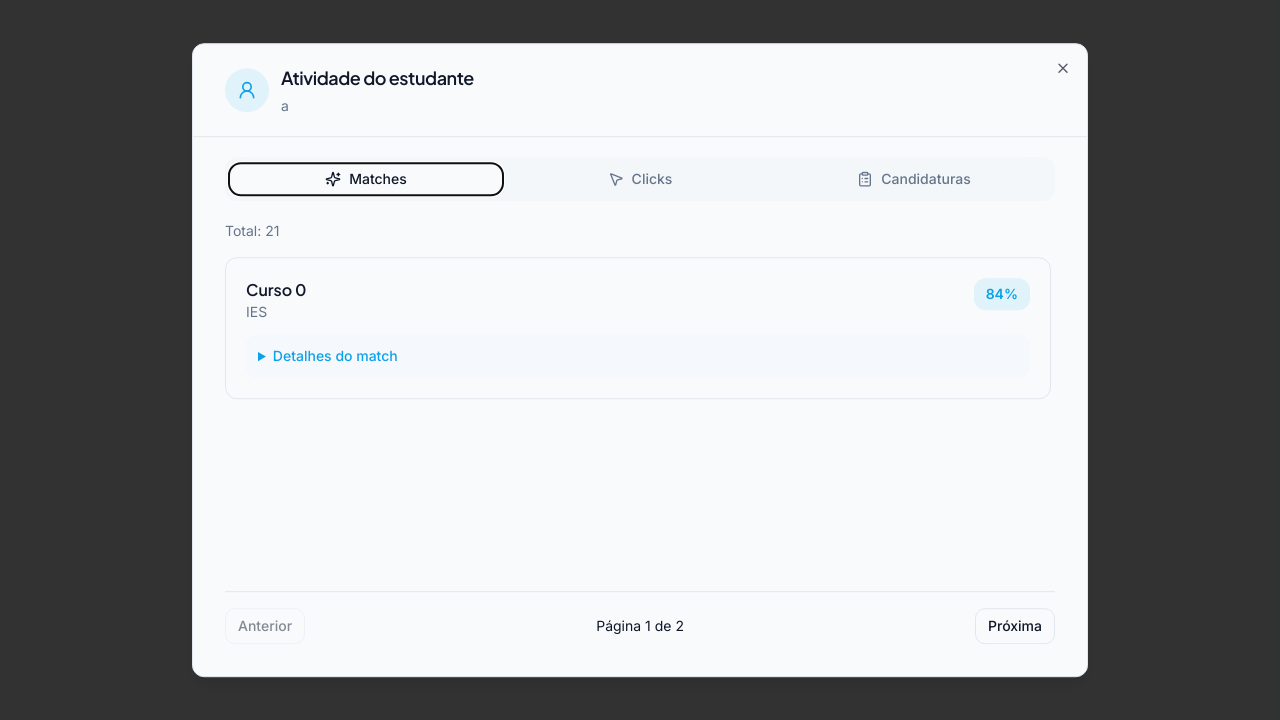
Test: renders match details and totals, changes pages without mixing rows, and restores each tab page
Expected: the heading "Curso 0" is shown, [246,278,306,302]
Expected: the text "84%" is shown, [974,278,1030,310]
Click the button "Próxima" at x=1015, y=626, box [975,608,1055,644]
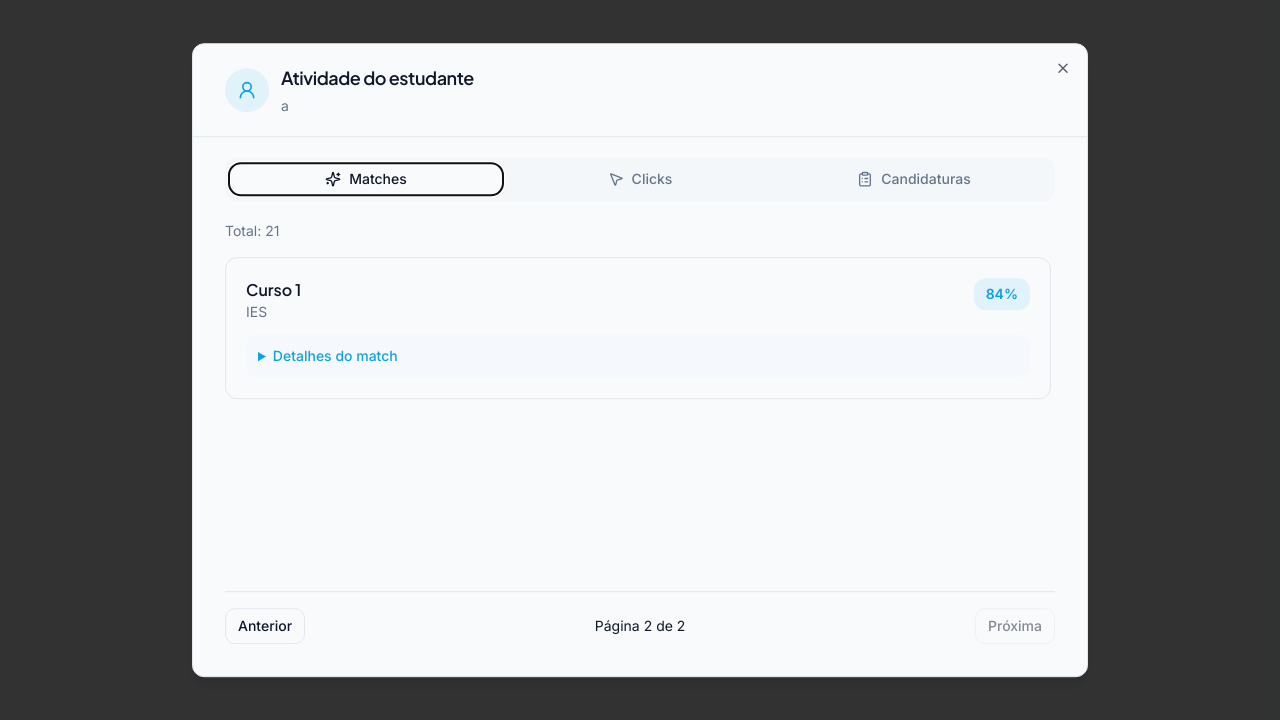
Expected: the heading "Curso 1" is shown, [246,278,301,302]
Expected: the heading "Curso 0" is gone
Expected: the button "Próxima" is disabled, [975,608,1055,644]
Press the mouse on the tab "Clicks" at x=640, y=179, box [503,163,777,195]
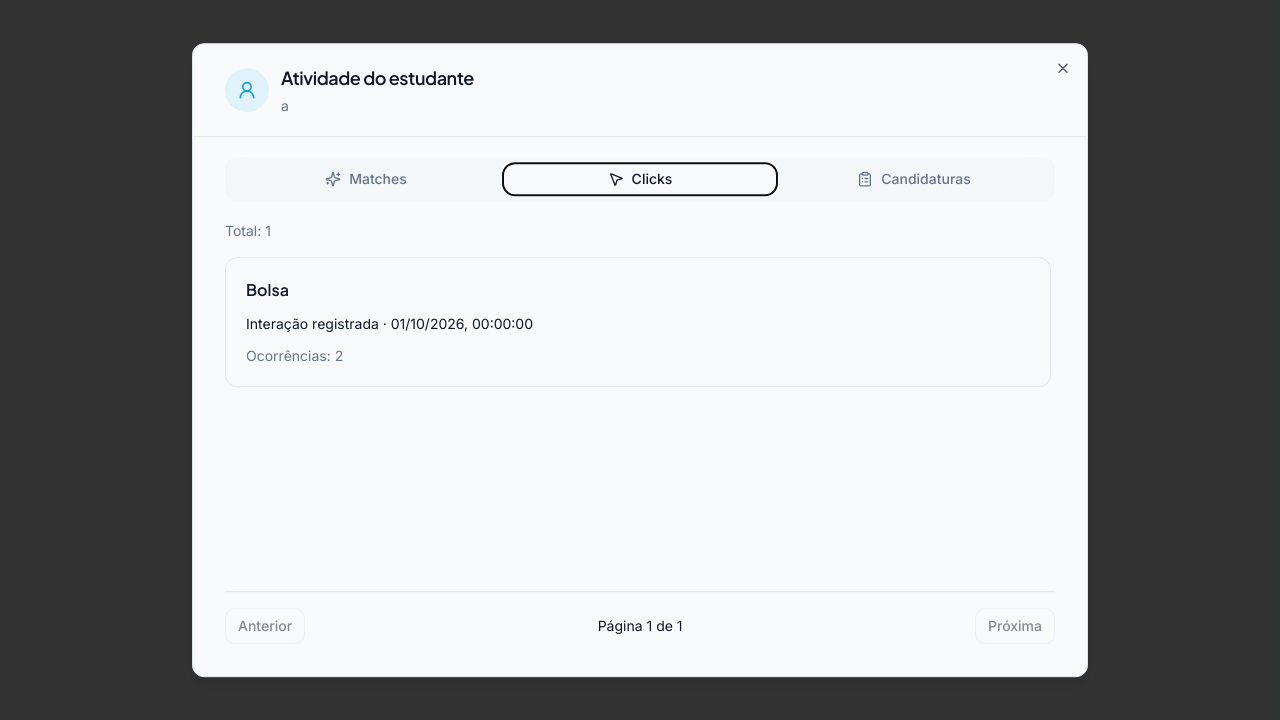
Expected: the heading "Bolsa" is shown, [246,279,289,300]
Press the mouse on the tab "Matches" at x=366, y=179, box [229,163,503,195]
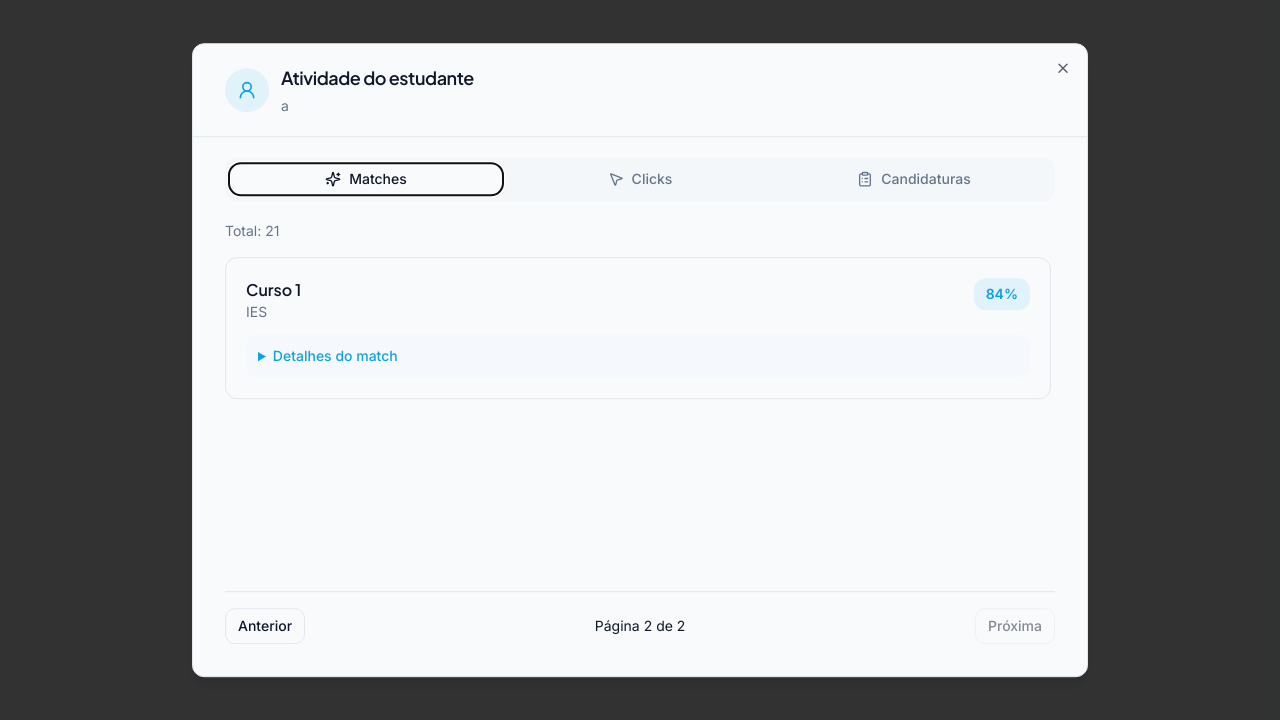
Expected: the heading "Curso 1" is shown, [246,278,301,302]
